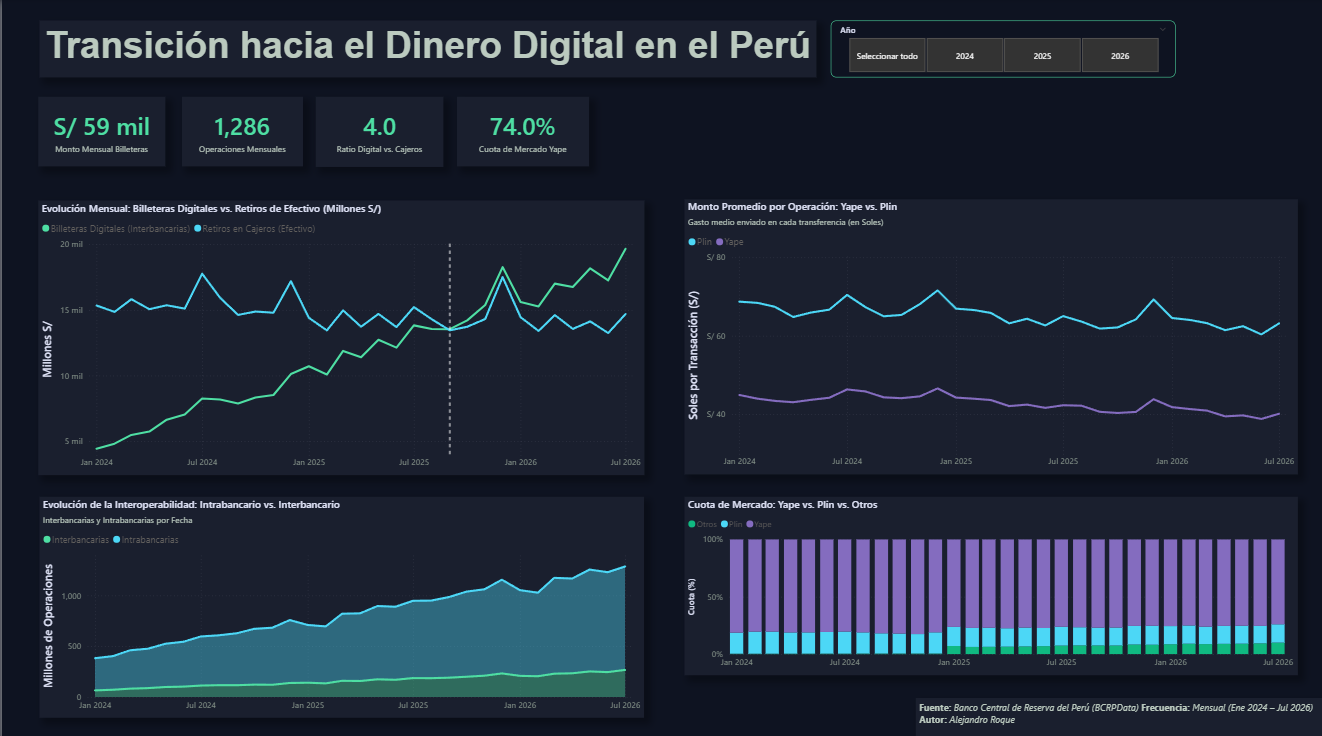

The page's visual inventory and layout, read from the dashboard file:
{"tool":"powerbi","page":{"name":"Página 1","canvas":[1920,1080],"ordinal":0},"visuals":[{"type":"lineChart","title":"Evolución Mensual: Billeteras Digitales vs. Retiros de Efectivo (Millones S/)","fields":{"Y":["Sum(billeteras.Pagos inmediatos con alias (Valor y Número en Millones de Soles) - Valor - Transferencias Interb","Sum(Mensuales.Medios de pago distintos al efectivo, cajeros y banca virtual: Monto de las operaciones en MN (millones S/"],"Category":["billeteras.Fecha"]},"box":[52.5,292.5,877.5,397.5],"z":0},{"type":"hundredPercentStackedColumnChart","title":"Cuota de Mercado: Yape vs. Plin vs. Otros","fields":{"Y":["Sum(billeteras.Total_Otros)","Sum(billeteras.Total_Plin)","Sum(billeteras.Total_Yape)"],"Category":["billeteras.Fecha"]},"box":[988,722,888,258],"z":1000},{"type":"stackedAreaChart","title":"Evolución de la Interoperabilidad: Intrabancario vs. Interbancario","fields":{"Category":["billeteras.Fecha"],"Y":["Sum(billeteras.Pagos inmediatos con alias (Valor y Número en Millones de Soles) - Número - Transferencias Interbancarias","Sum(billeteras.Pagos inmediatos con alias (Valor y Número en Millones de Soles) - Número - Transferencias Intrabancarias"]},"box":[55,722.5,875,320],"z":2000},{"type":"textbox","box":[55,32.5,1125,82.5],"z":3000},{"type":"card","fields":{"Values":["billeteras.KPI_Monto_Billeteras"]},"box":[52.9,142.6,184,101.2],"z":4000},{"type":"card","fields":{"Values":["billeteras.KPI_Total_Operaciones"]},"box":[260,143,175,101],"z":5000},{"type":"card","fields":{"Values":["billeteras.KPI_Ratio_Efectivo"]},"box":[453.8,142.5,185,101.2],"z":6000},{"type":"card","fields":{"Values":["billeteras.KPI_Share_Yape"]},"box":[658,143,191,101],"z":7000},{"type":"slicer","fields":{"Values":["billeteras.Año"]},"box":[1200.6,32.2,499.1,82.8],"z":8000},{"type":"textbox","box":[1322,1014,598,66],"z":9000},{"type":"lineChart","title":"Monto Promedio por Operación: Yape vs. Plin","fields":{"Category":["billeteras.Fecha"],"Y":["billeteras.Ticket_Promedio_Plin","billeteras.Ticket_Promedio_Yape"]},"box":[988,292,888,398],"z":10000}]}

Visuals, with their boxes in screenshot pixels (x1, y1, x2, y2), scaled from the page's 1920x1080 canvas onto the 1322x736 screenshot:
"Evolución Mensual: Billeteras Digitales vs. Retiros de Efectivo (Millones S/)" lineChart: detection(36, 199, 640, 470)
"Cuota de Mercado: Yape vs. Plin vs. Otros" hundredPercentStackedColumnChart: detection(680, 492, 1292, 668)
"Evolución de la Interoperabilidad: Intrabancario vs. Interbancario" stackedAreaChart: detection(38, 492, 640, 710)
textbox: detection(38, 22, 812, 78)
card - billeteras.KPI_Monto_Billeteras: detection(36, 97, 163, 166)
card - billeteras.KPI_Total_Operaciones: detection(179, 97, 300, 166)
card - billeteras.KPI_Ratio_Efectivo: detection(312, 97, 440, 166)
card - billeteras.KPI_Share_Yape: detection(453, 97, 585, 166)
slicer - billeteras.Año: detection(827, 22, 1170, 78)
textbox: detection(910, 691, 1321, 735)
"Monto Promedio por Operación: Yape vs. Plin" lineChart: detection(680, 199, 1292, 470)
